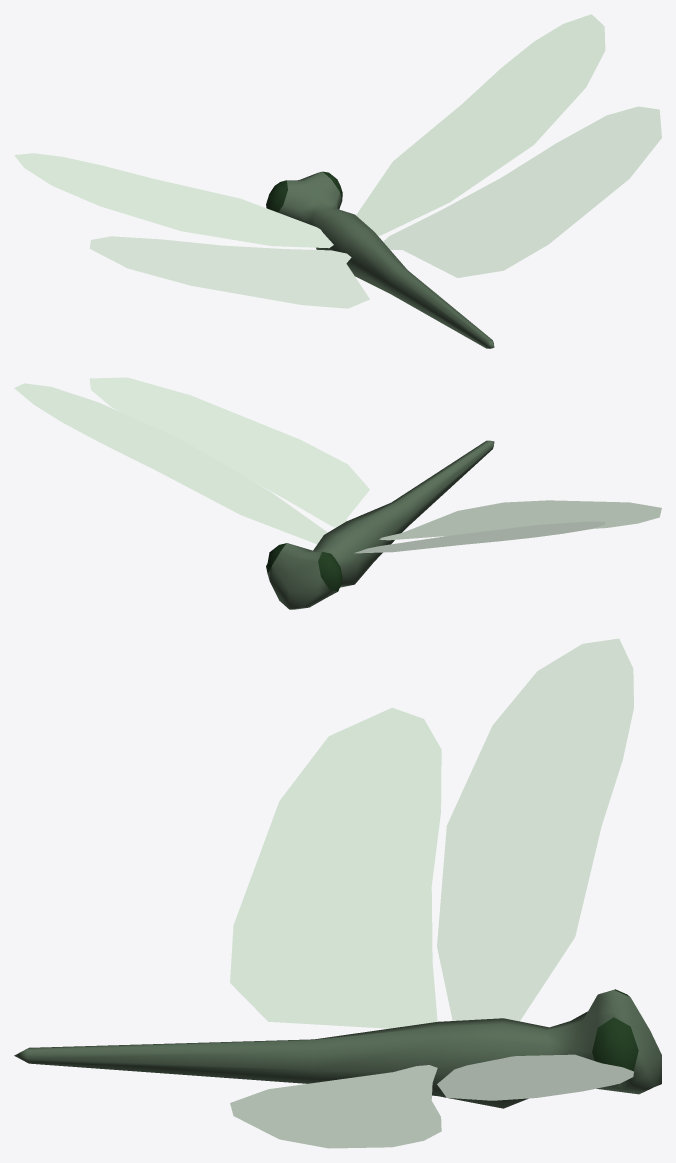
File: Dragonfly_3.gltf
The picture shows the model from 3 angles, top to bottom: view 1: azimuth 30°, elevation 25°; view 2: azimuth 150°, elevation 25°; view 3: azimuth 270°, elevation 25°; orthographic projection. The views are drawn at different scales.
Visible parts, largest first — view 1: Dragonfly_3; view 2: Dragonfly_3; view 3: Dragonfly_3.
Part boxes in pixels (<box>): Dragonfly_3: <box>14,14,661,348</box>; Dragonfly_3: <box>14,377,661,609</box>; Dragonfly_3: <box>14,638,661,1148</box>.
Size of the model in its own units: 23.99 by 6.16 by 14.68.
1 material, 1 textured.
